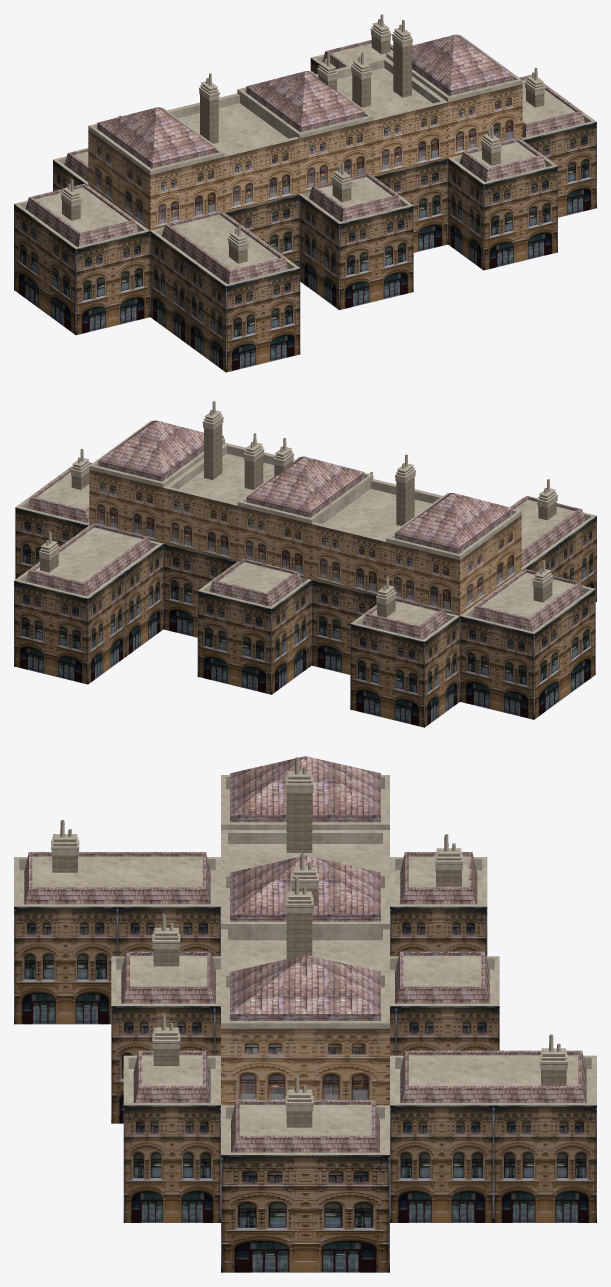
File: Prison Break.FBX
3 renders of one model, top to bottom at view 1: azimuth 30°, elevation 25°; view 2: azimuth 150°, elevation 25°; view 3: azimuth 270°, elevation 25°, orthographic. The views are drawn at different scales.
Parts seen in each view (by area): view 1: bldg715; view 2: bldg715; view 3: bldg715.
Part boxes in pixels (x1,y1,x2,y2): bldg715: [14, 14, 596, 372]; bldg715: [14, 401, 596, 727]; bldg715: [14, 756, 596, 1272].
Bounding box in the file's own units: 224 × 85.51 × 159.
5 materials, 5 textured.
